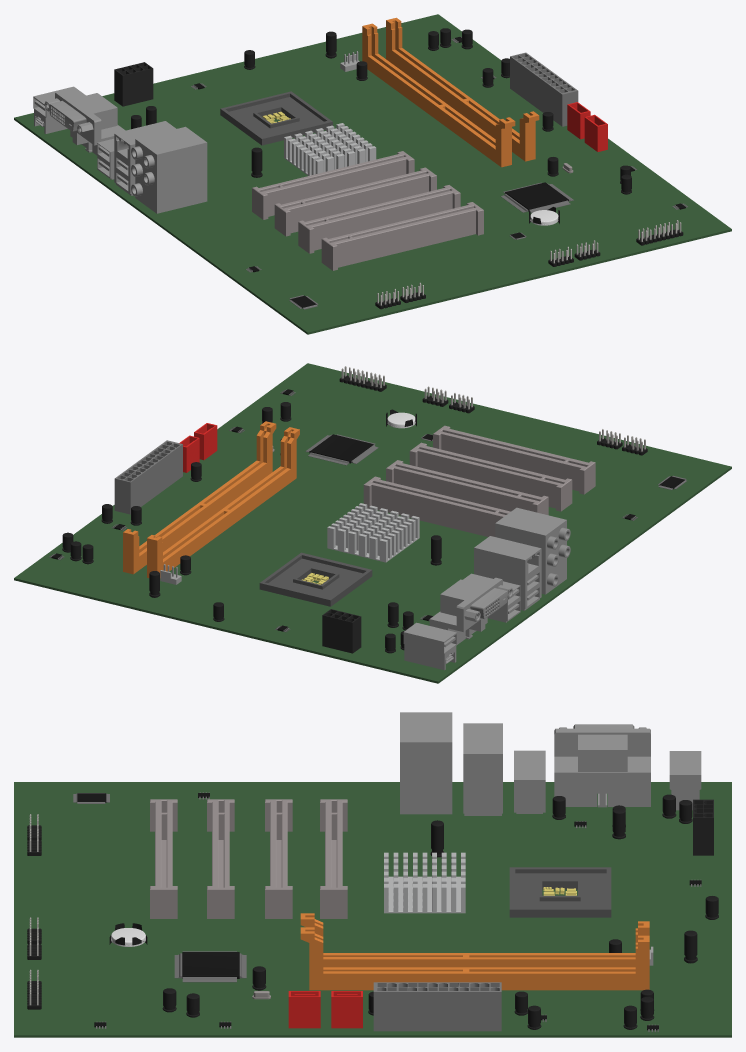
The model's file is MotherboardLGA775B.fbx.
The picture shows the model from 3 angles, top to bottom: view 1: azimuth 30°, elevation 25°; view 2: azimuth 150°, elevation 25°; view 3: azimuth 270°, elevation 25°; orthographic projection. The views are drawn at different scales.
Parts seen in each view (by area): view 1: Plane, PCI.003, SOUND, RAM, RAM.001, PCI.001, PCI.002, PCI.004, HeatSink.001, POWER, DISPLAY, CPU (+8 smaller); view 2: Plane, RAM, PCI.004, RAM.001, PCI.002, PCI.003, HeatSink.001, PCI.001, USB30, POWER, DISPLAY, SOUND (+8 smaller); view 3: Plane, RAM.001, DISPLAY, POWER, SOUND, RAM, HeatSink.001, USB30, CPU, PCI.004, PCI.001, PCI.002 (+8 smaller).
Part boxes in pixels (x1,y1,x2,y2): Plane: [14, 14, 731, 334]; PCI.003: [321, 202, 483, 270]; SOUND: [135, 126, 207, 213]; RAM: [362, 23, 515, 167]; RAM.001: [386, 17, 539, 161]; PCI.001: [274, 167, 436, 236]; PCI.002: [298, 185, 460, 253]; PCI.004: [252, 151, 414, 219]; HeatSink.001: [284, 123, 376, 175]; POWER: [510, 52, 578, 126]; DISPLAY: [44, 91, 125, 155]; CPU: [220, 91, 332, 145]; Plane: [14, 363, 731, 683]; RAM: [147, 427, 299, 577]; PCI.004: [363, 476, 510, 536]; RAM.001: [123, 421, 276, 574]; PCI.002: [409, 442, 572, 511]; PCI.003: [433, 425, 595, 494]; HeatSink.001: [327, 503, 419, 562]; PCI.001: [386, 460, 548, 515]; USB30: [474, 536, 541, 610]; POWER: [114, 440, 182, 514]; DISPLAY: [429, 577, 513, 645]; SOUND: [495, 507, 566, 594]; Plane: [14, 782, 731, 1037]; RAM.001: [300, 927, 649, 990]; DISPLAY: [554, 724, 650, 807]; POWER: [373, 982, 501, 1031]; SOUND: [400, 712, 452, 814]; RAM: [300, 913, 649, 967]; HeatSink.001: [384, 852, 465, 913]; USB30: [463, 723, 502, 815]; CPU: [509, 867, 611, 917]; PCI.004: [320, 799, 347, 918]; PCI.001: [265, 799, 292, 918]; PCI.002: [207, 799, 234, 918].
Bounding box in the file's own units: 760 × 107 × 901.
